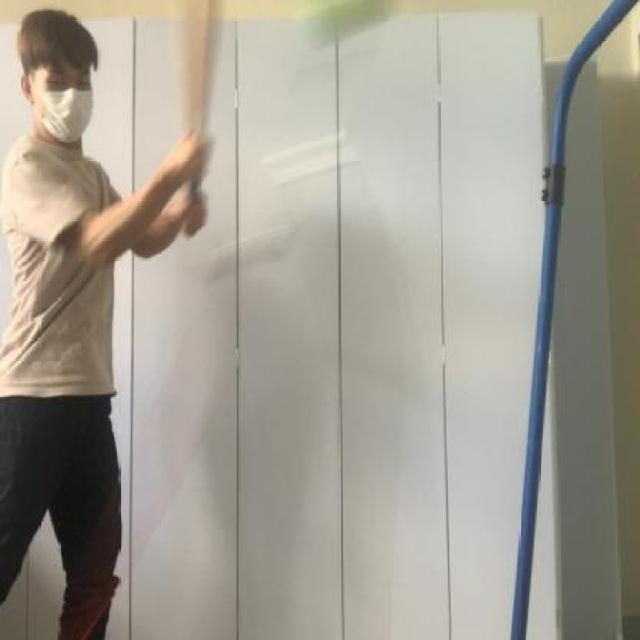baseball: (293, 0, 402, 63)
